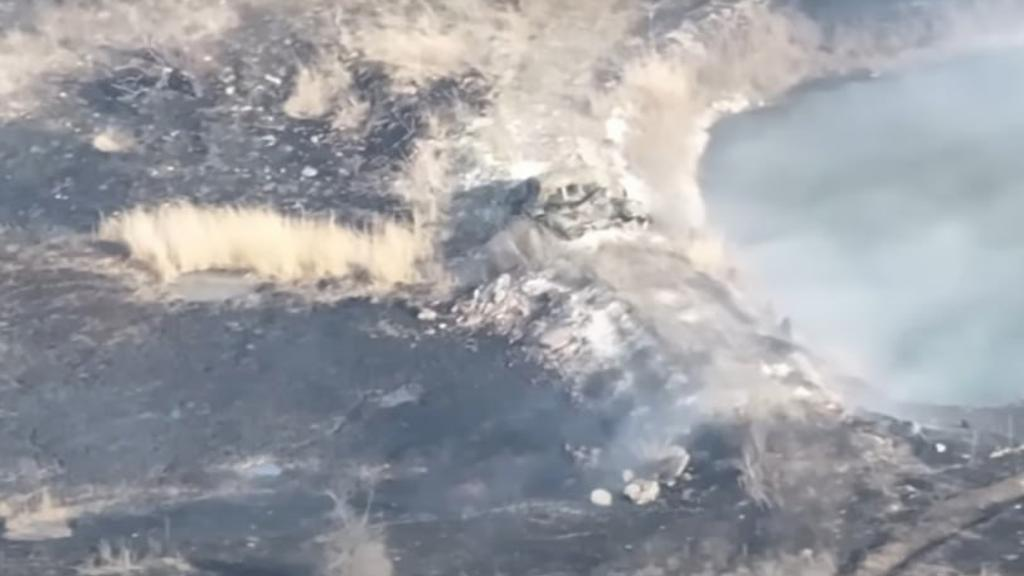TANK: (516, 152, 647, 252)
